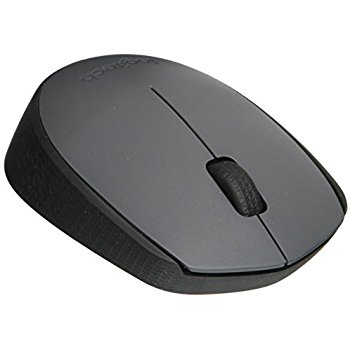Mouse: (2, 48, 350, 303)
